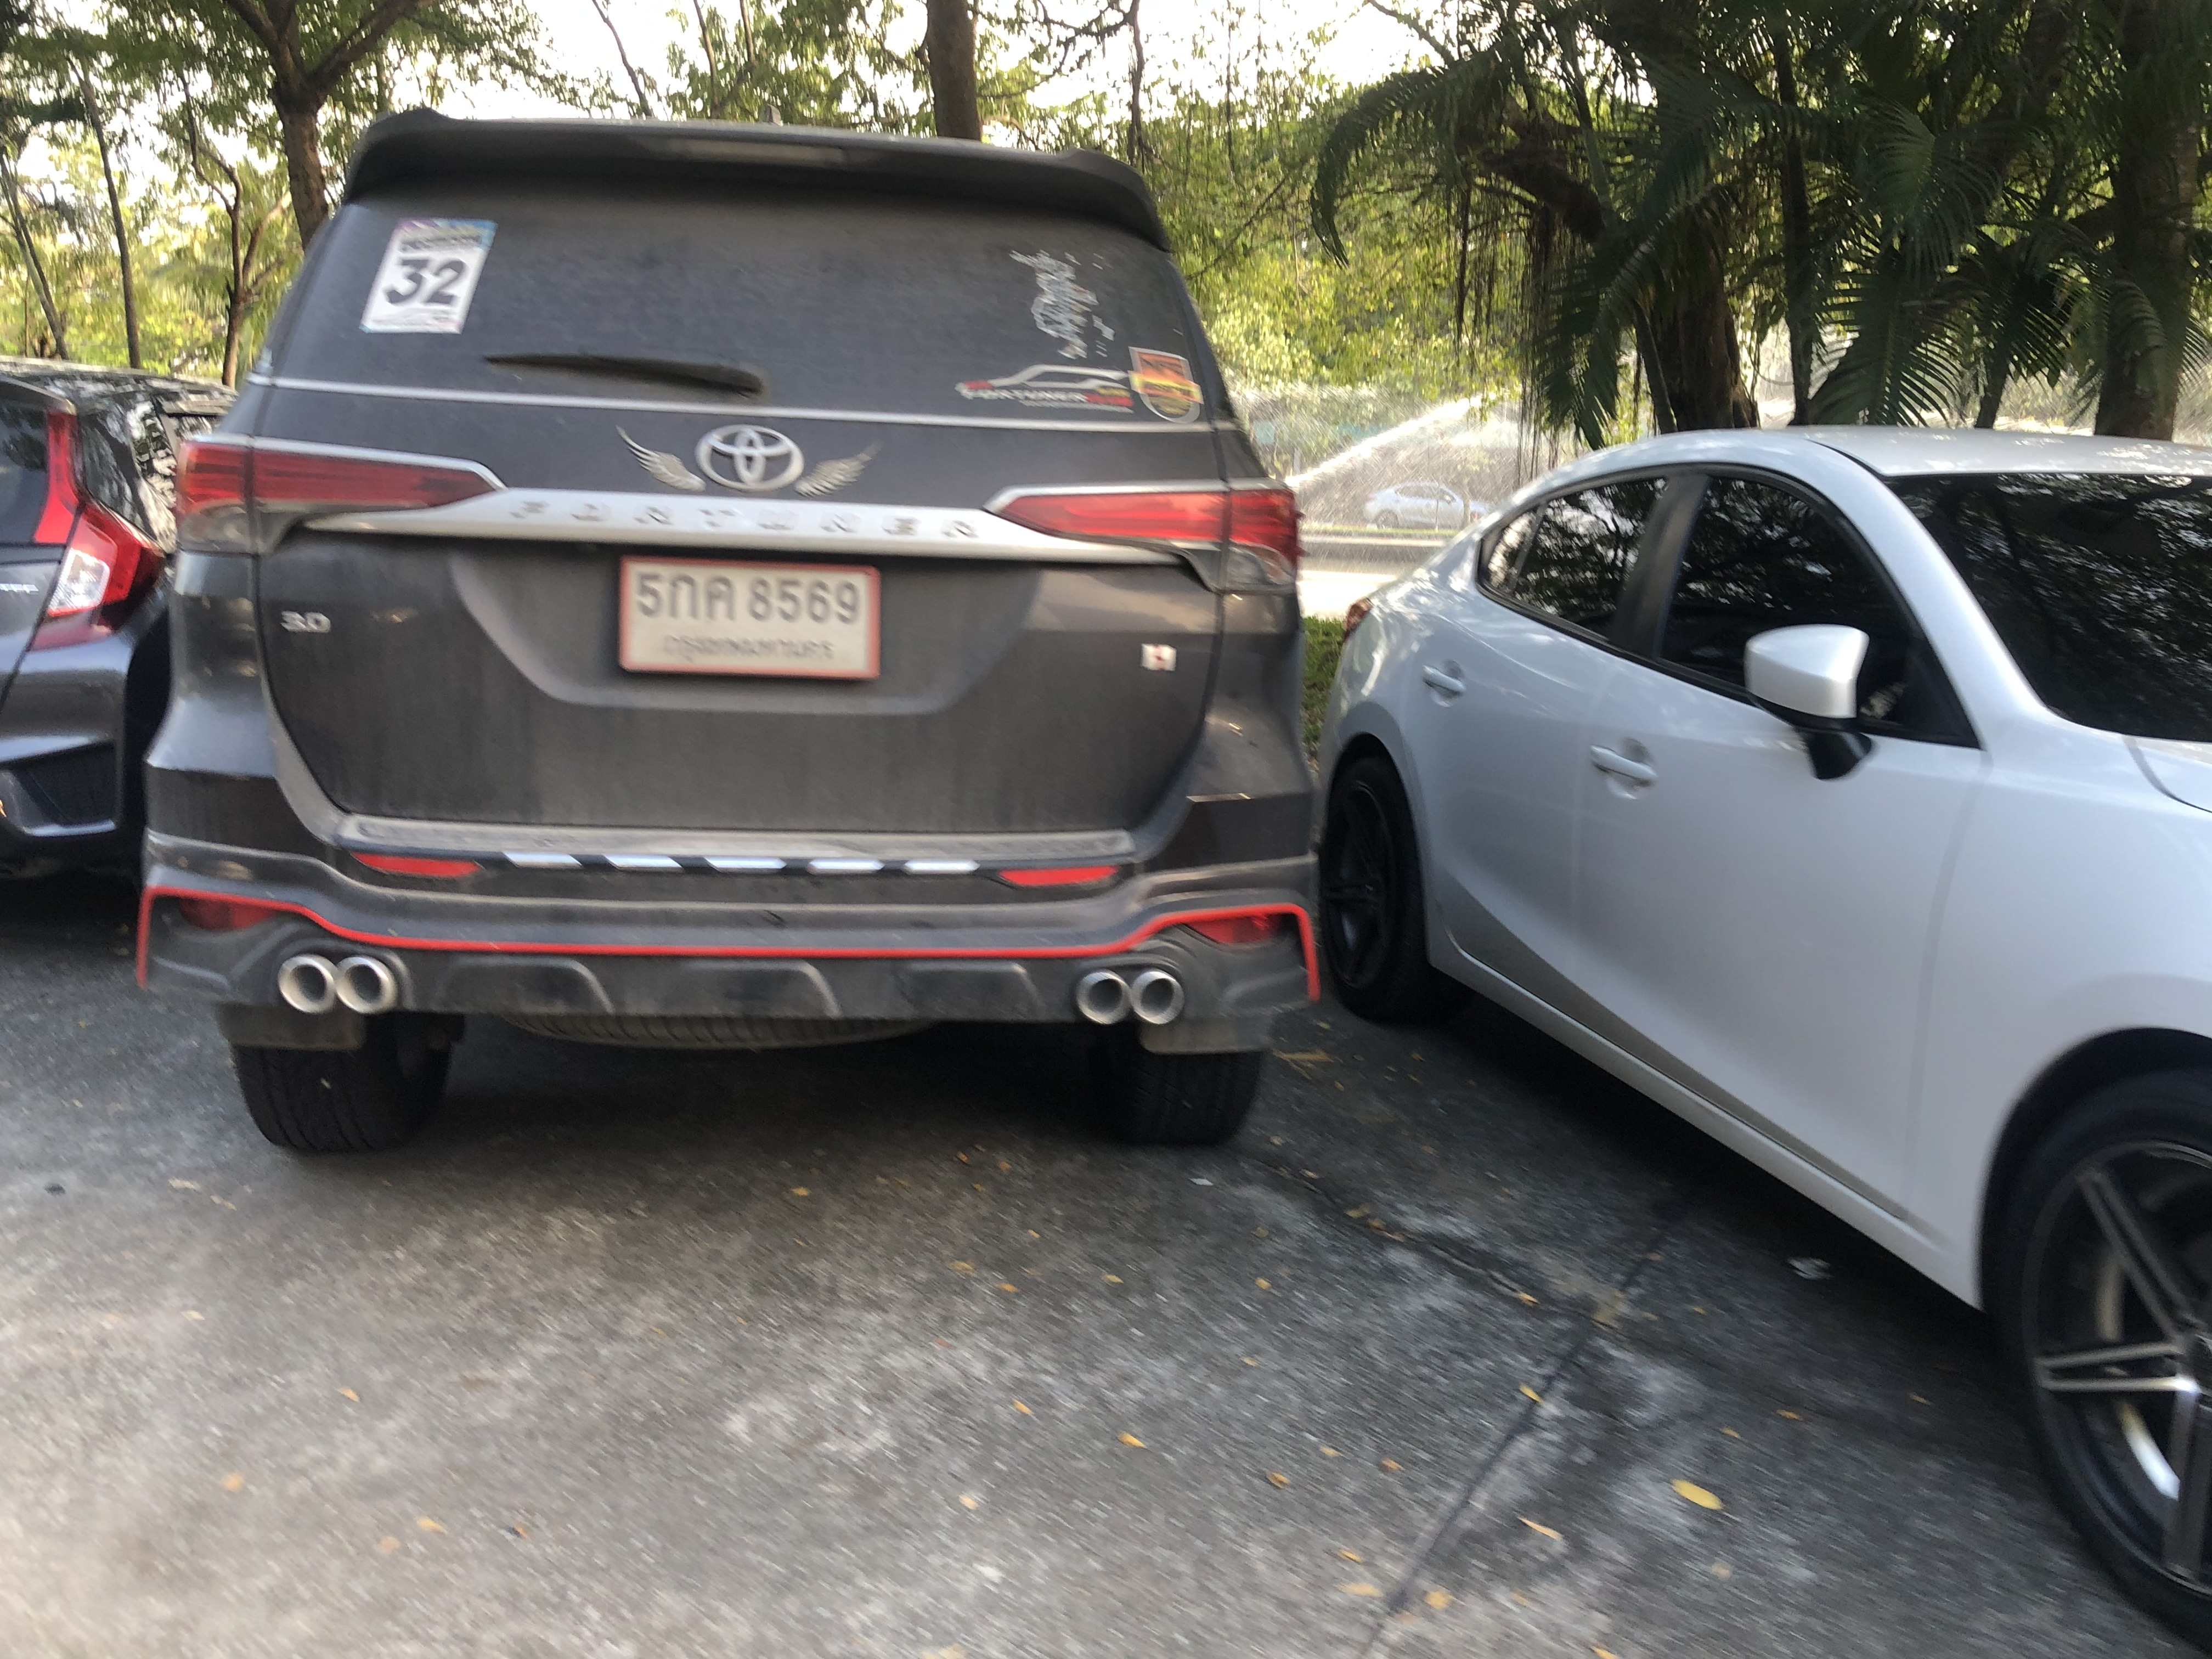in: (631, 566, 869, 671)
out: (615, 551, 881, 685)
